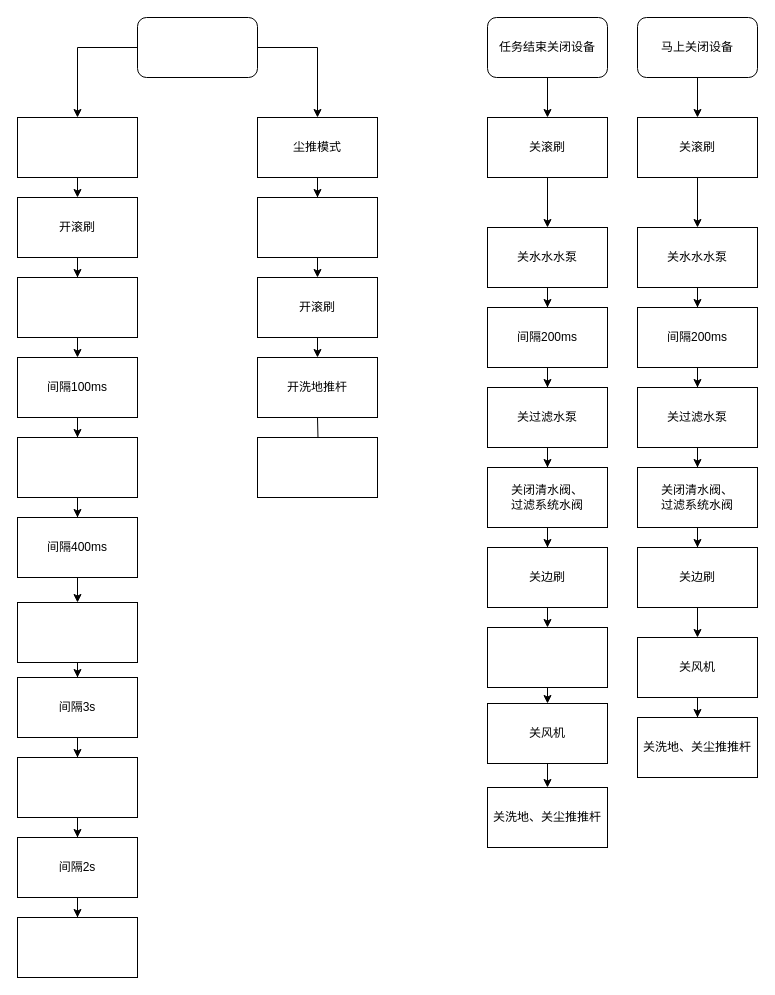
Image size: 775x995. Some labels were removed from this diagram. The centre of each missing label's shape, as x and y in pixels:
延时5s: the point at 547,657
开尘推推杆: the point at 317,227
开边刷: the point at 317,467
开风机: the point at 77,307
打开布水水泵: the point at 77,632
打开洗地推杆: the point at 77,787
打开清水阀: the point at 77,467
打开设备: the point at 197,47
打开边刷: the point at 77,947
洗地模式: the point at 77,147
